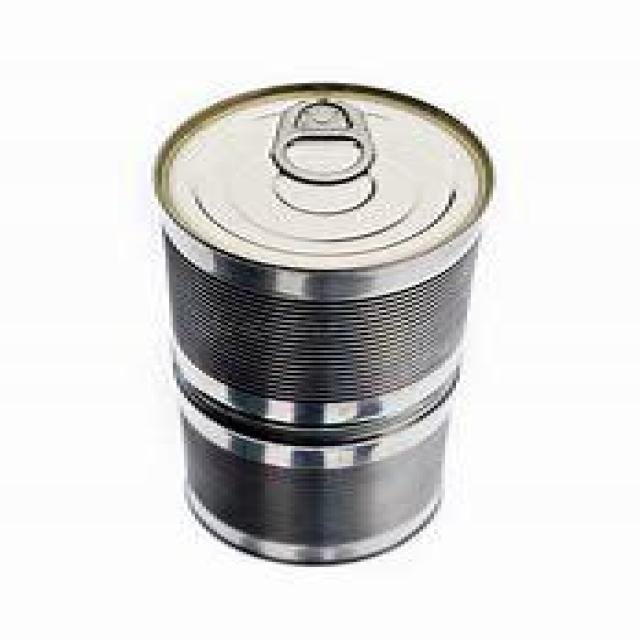can: (151, 81, 498, 565)
pop tab: (268, 98, 378, 186)
